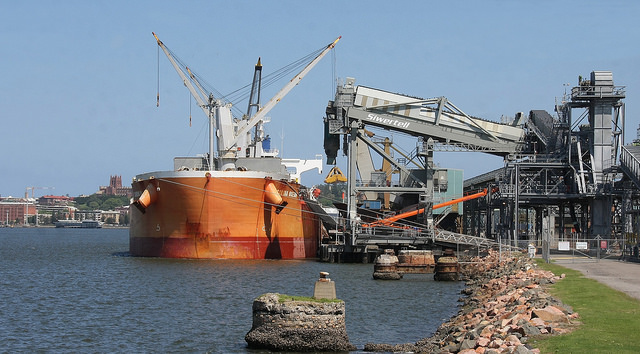bulk carrier: (128, 31, 320, 256)
